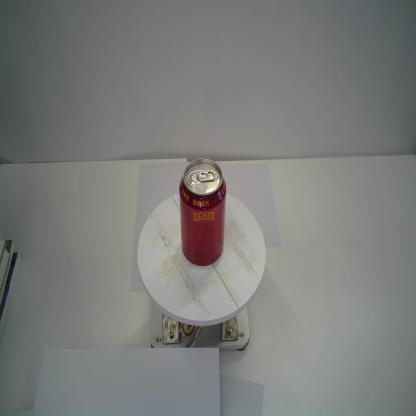Drink: (178, 157, 227, 270)
